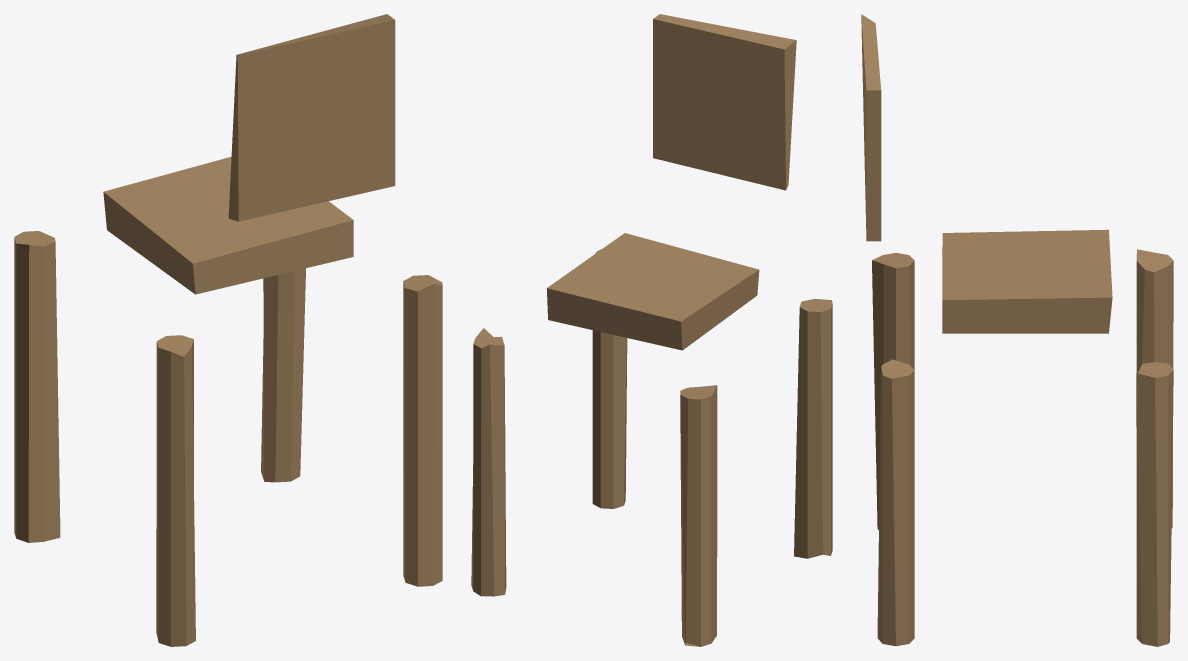
The model's file is chair_wooden.glb.
3 views of the same model, side by side, from view 1: azimuth 30°, elevation 25°; view 2: azimuth 150°, elevation 25°; view 3: azimuth 270°, elevation 25° (orthographic). The views are drawn at different scales.
Parts seen in each view (by area): view 1: chair_wooden; view 2: chair_wooden; view 3: chair_wooden.
Boxes of the visible parts, x1,y1,x2,y2 form: chair_wooden: [14, 14, 442, 646]; chair_wooden: [471, 14, 832, 646]; chair_wooden: [861, 14, 1173, 646].
Bounding box in the file's own units: 0.4042 × 0.8029 × 0.422.
